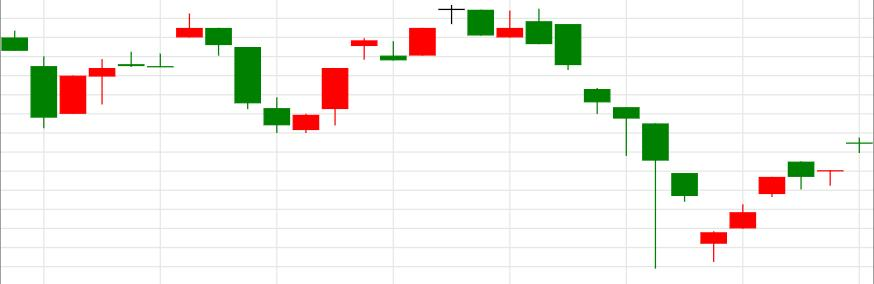hammer_rise: (526, 9, 669, 268)
